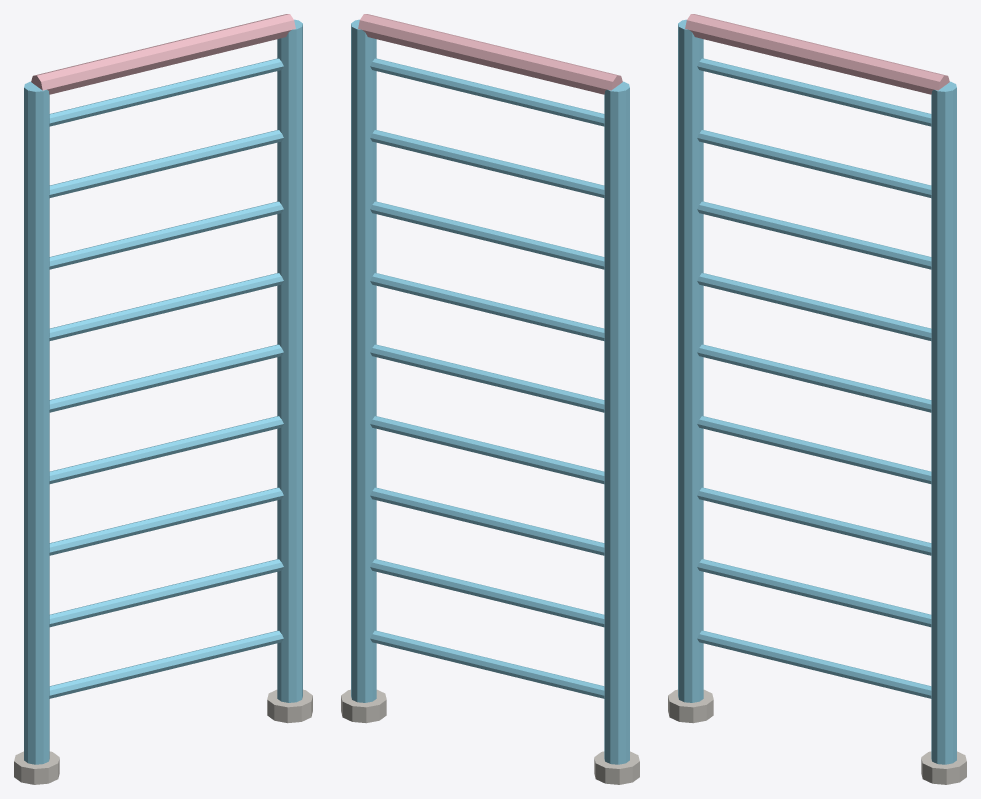
Rendered from wall_bars.glb.
3 views of the same model, side by side, from view 1: azimuth 30°, elevation 25°; view 2: azimuth 150°, elevation 25°; view 3: azimuth 330°, elevation 25° (orthographic).
Parts seen in each view (by area): view 1: WallBars; view 2: WallBars; view 3: WallBars.
Boxes of the visible parts, x1,y1,x2,y2 form: WallBars: (14, 14, 312, 784); WallBars: (341, 14, 639, 784); WallBars: (668, 14, 966, 784).
Bounding box in the file's own units: 1.15 × 2.64 × 0.16.
